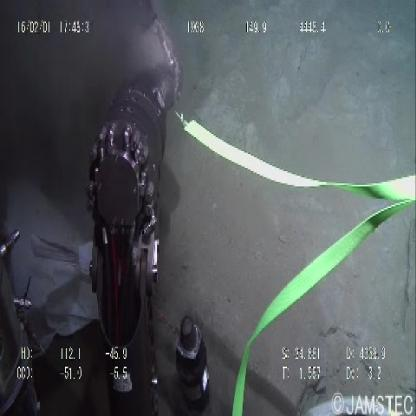Rov: (83, 20, 211, 416)
Rác: (1, 188, 105, 354)
